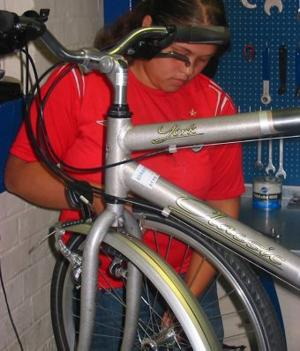person: (4, 1, 245, 347)
